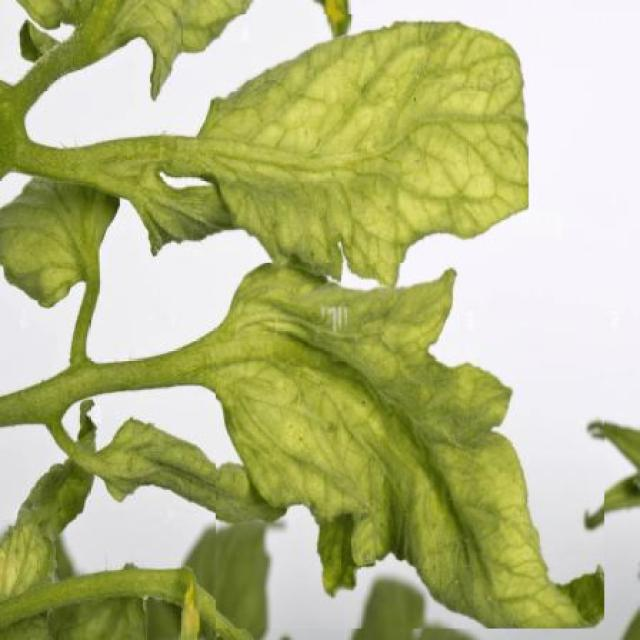Mosaic Virus: (216, 262, 604, 629), (206, 15, 528, 289)
